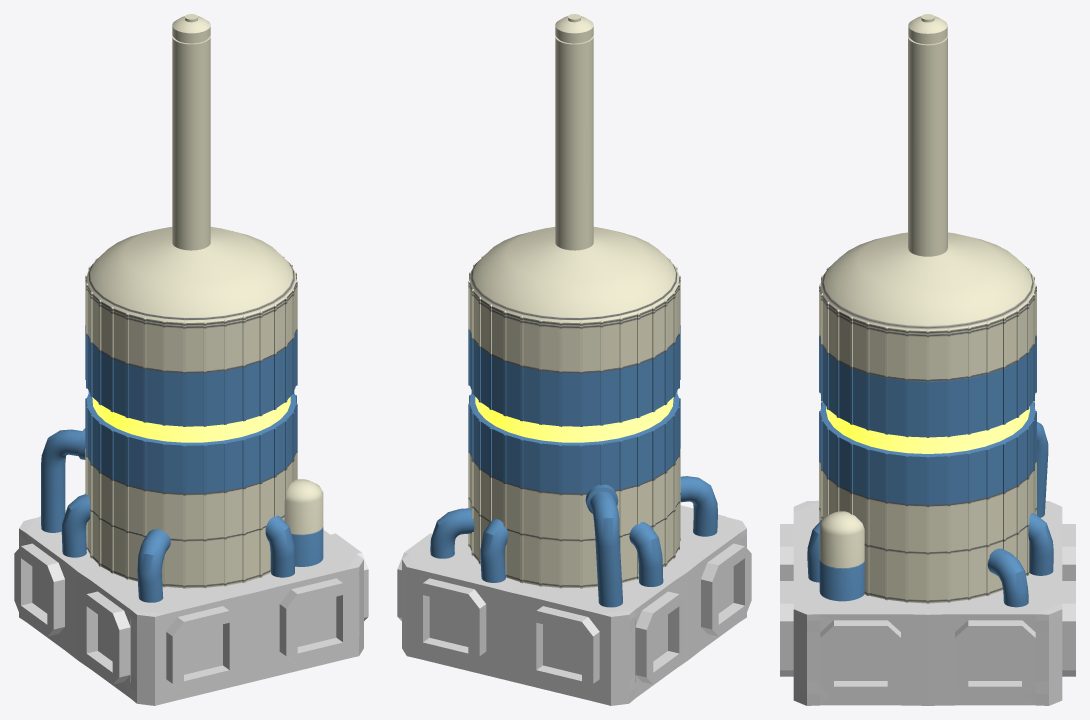
Rendered from minerNew.fbx.
The picture shows the model from 3 angles, left to right: view 1: azimuth 30°, elevation 25°; view 2: azimuth 150°, elevation 25°; view 3: azimuth 270°, elevation 25°; orthographic projection. The views are drawn at different scales.
Parts seen in each view (by area): view 1: Miner, Cube.001, LightRing.001; view 2: Miner, Cube.001, LightRing.001; view 3: Miner, Cube.001, LightRing.001.
Part boxes in pixels (x1,y1,x2,y2): Miner: (41,14,323,602); Cube.001: (14,510,368,705); LightRing.001: (92,397,290,442); Miner: (430,14,717,607); Cube.001: (397,505,751,705); LightRing.001: (475,397,673,442); Miner: (807,14,1053,607); Cube.001: (780,500,1075,705); LightRing.001: (826,406,1029,453).
Size of the model in its own units: 220 by 519 by 220.
2 materials, 1 textured.
